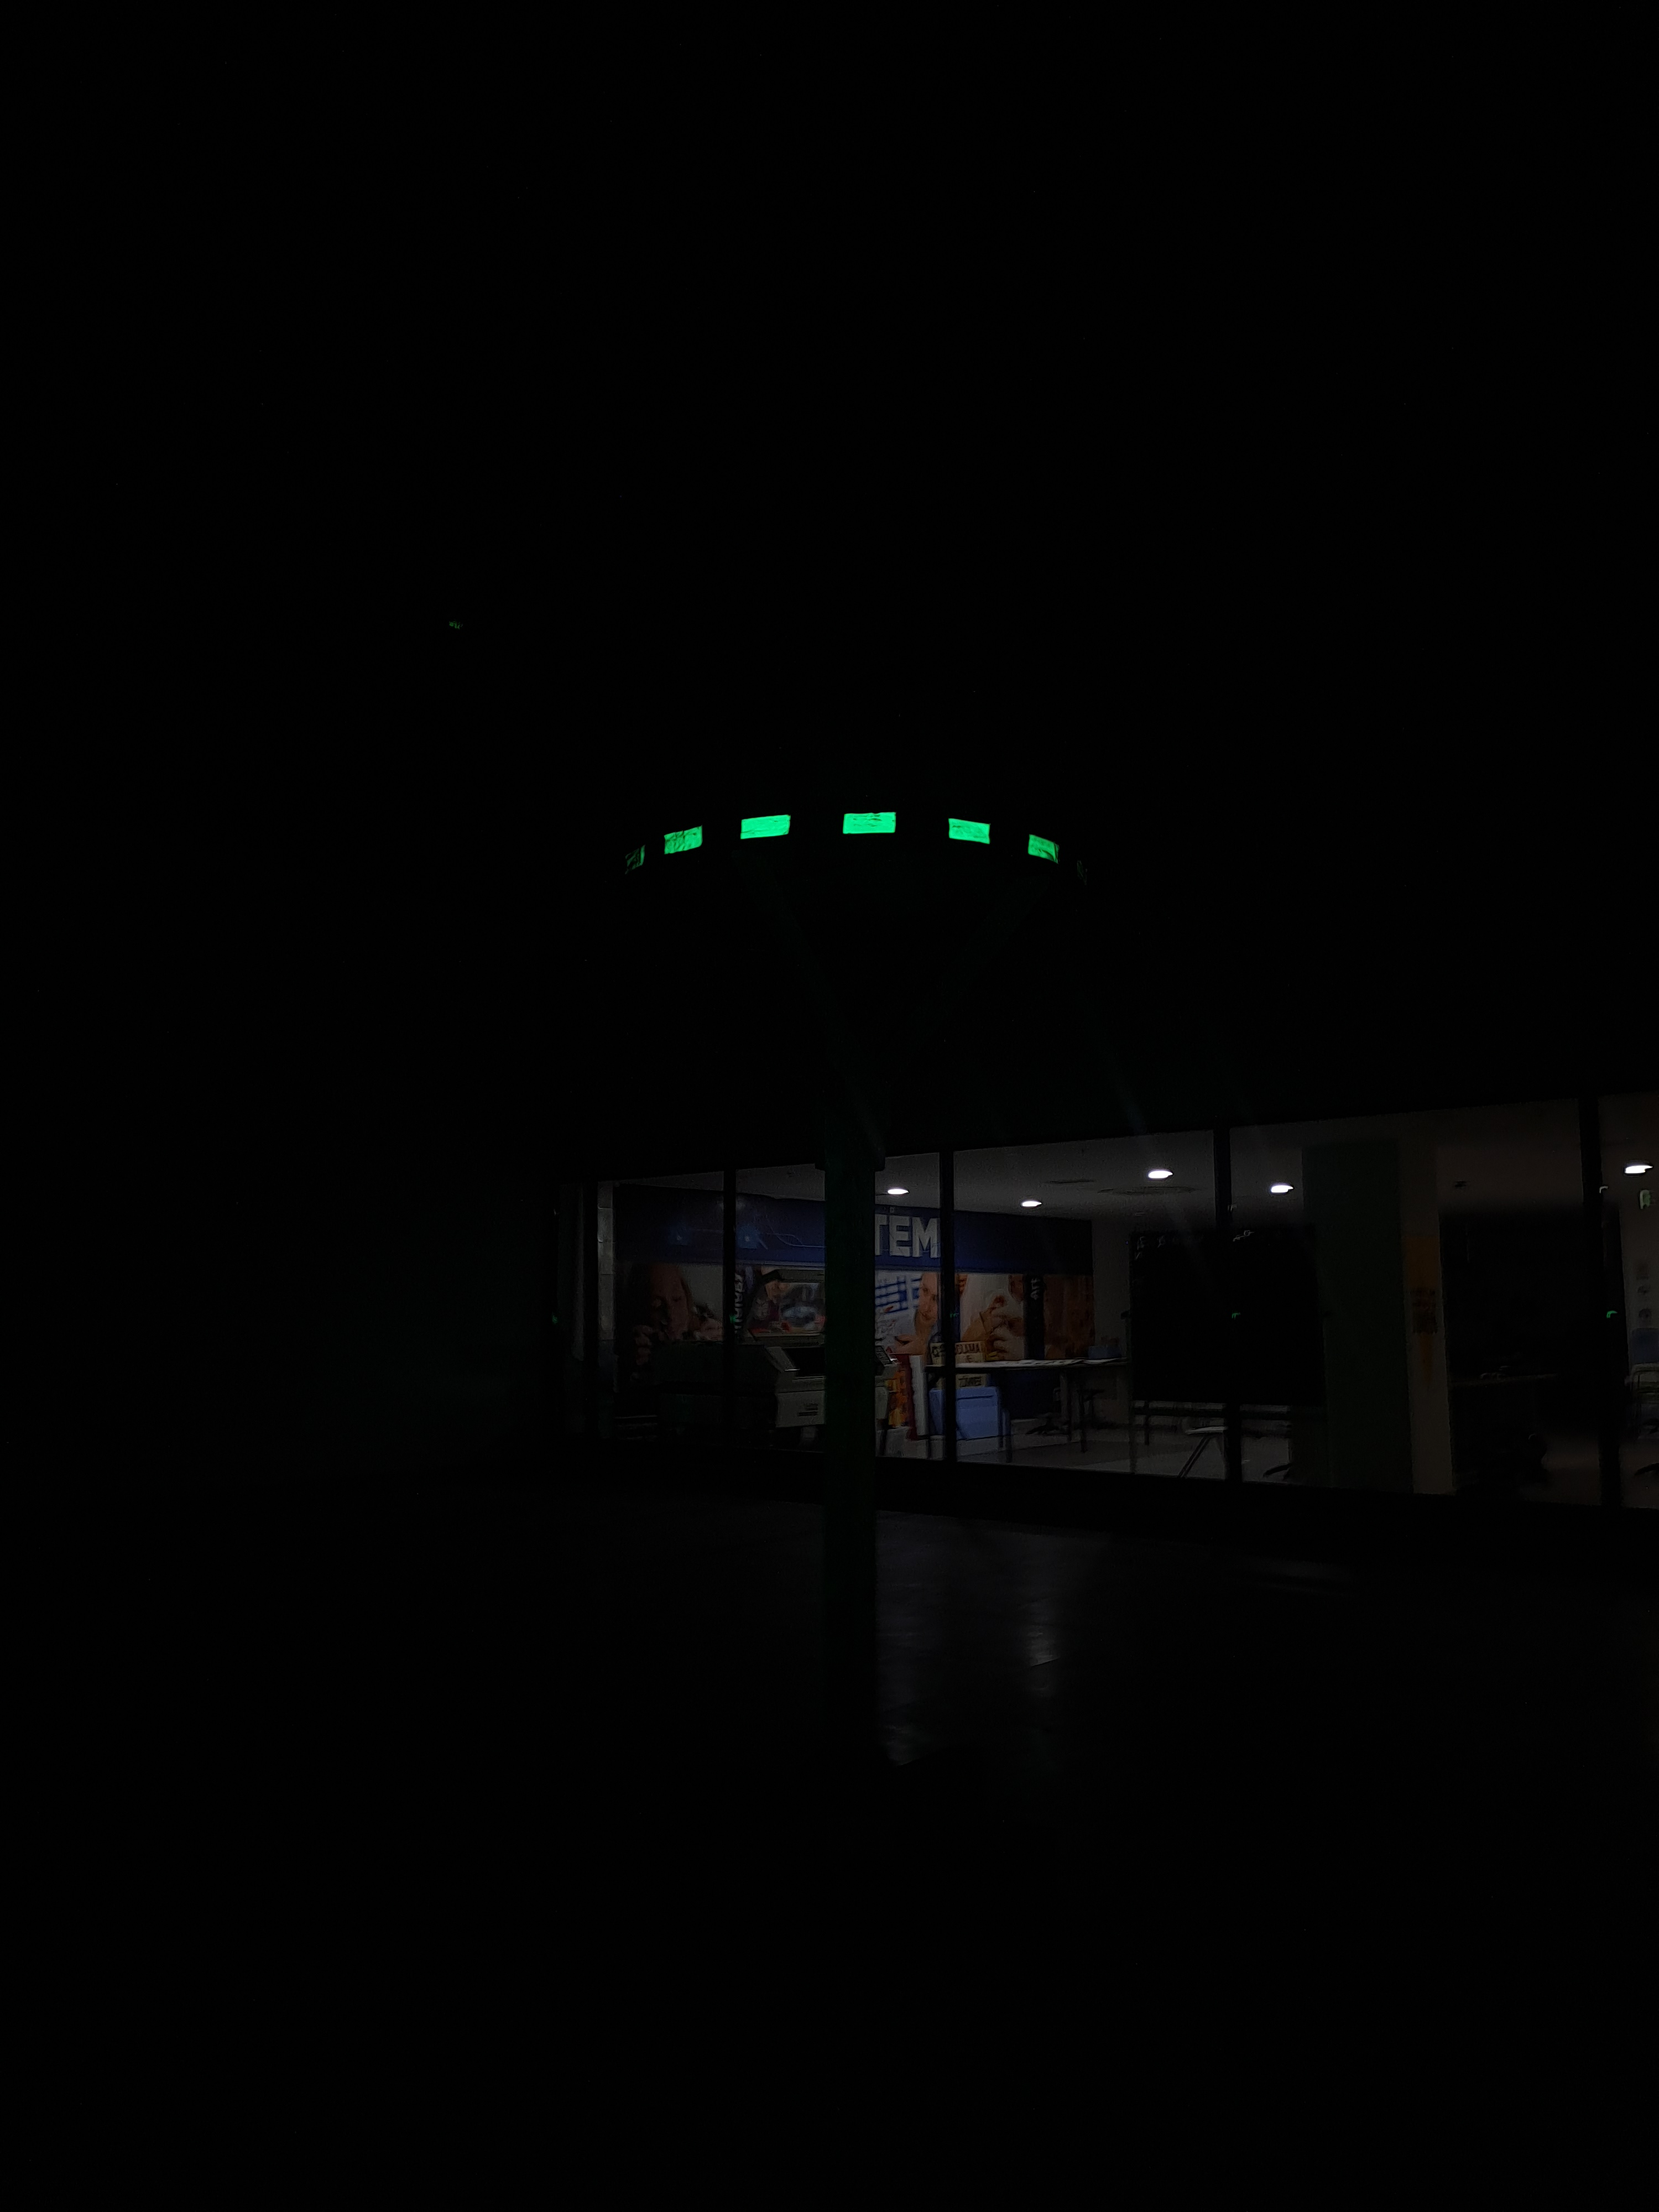hoop: (659, 805, 1068, 873)
